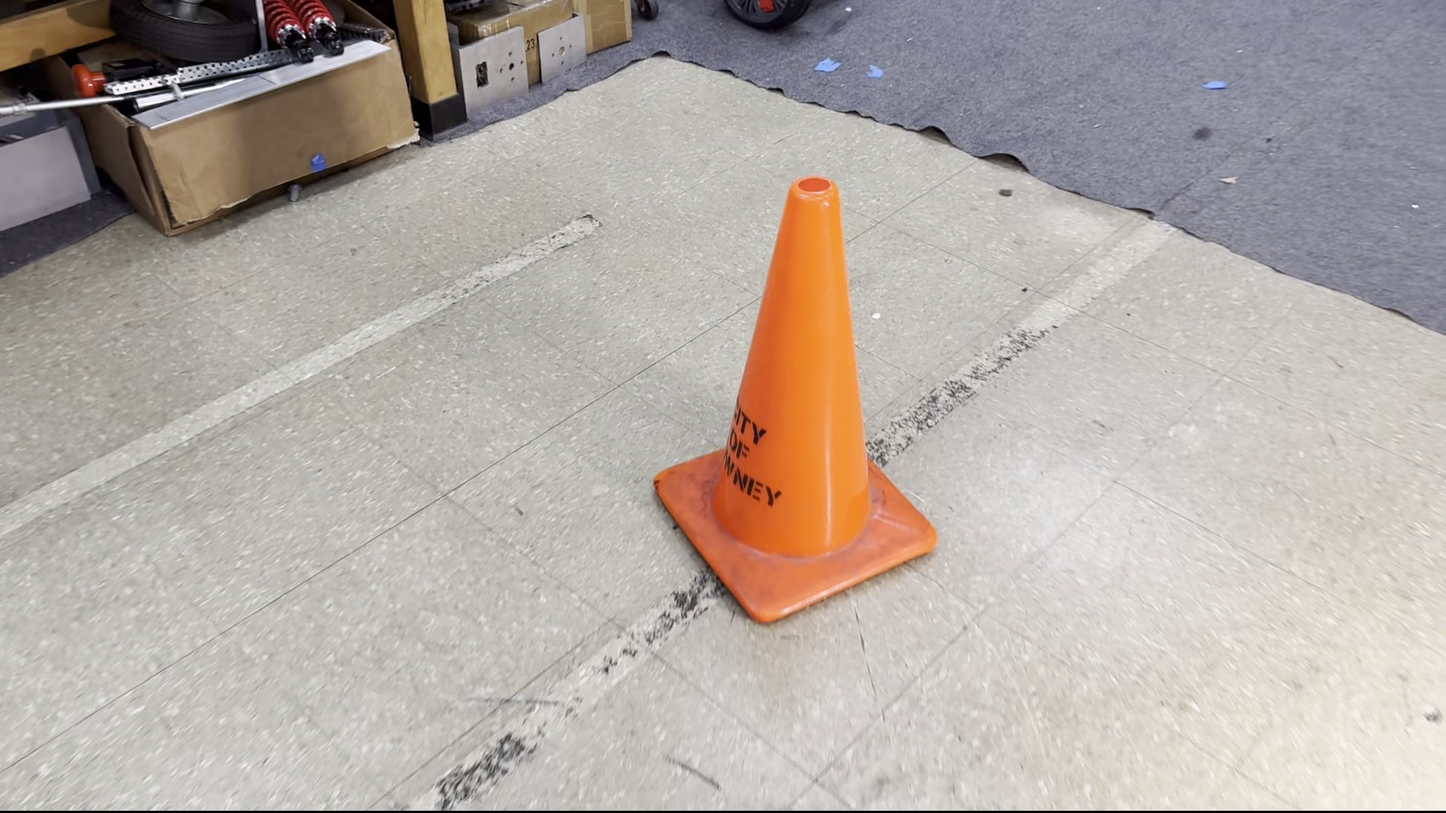traffic_cone: (652, 175, 939, 625)
